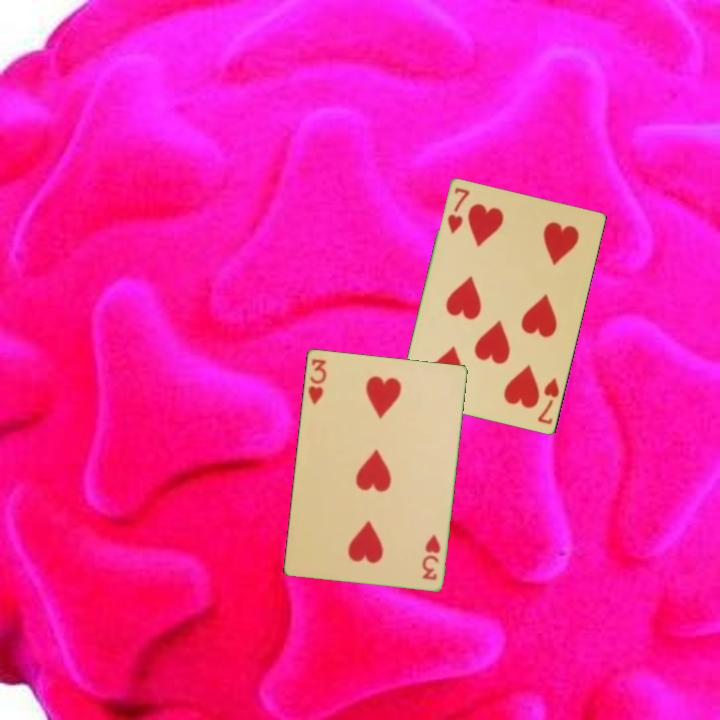3h: (304, 355, 329, 407), (419, 530, 443, 583)
7h: (444, 184, 473, 237), (534, 374, 562, 427)
